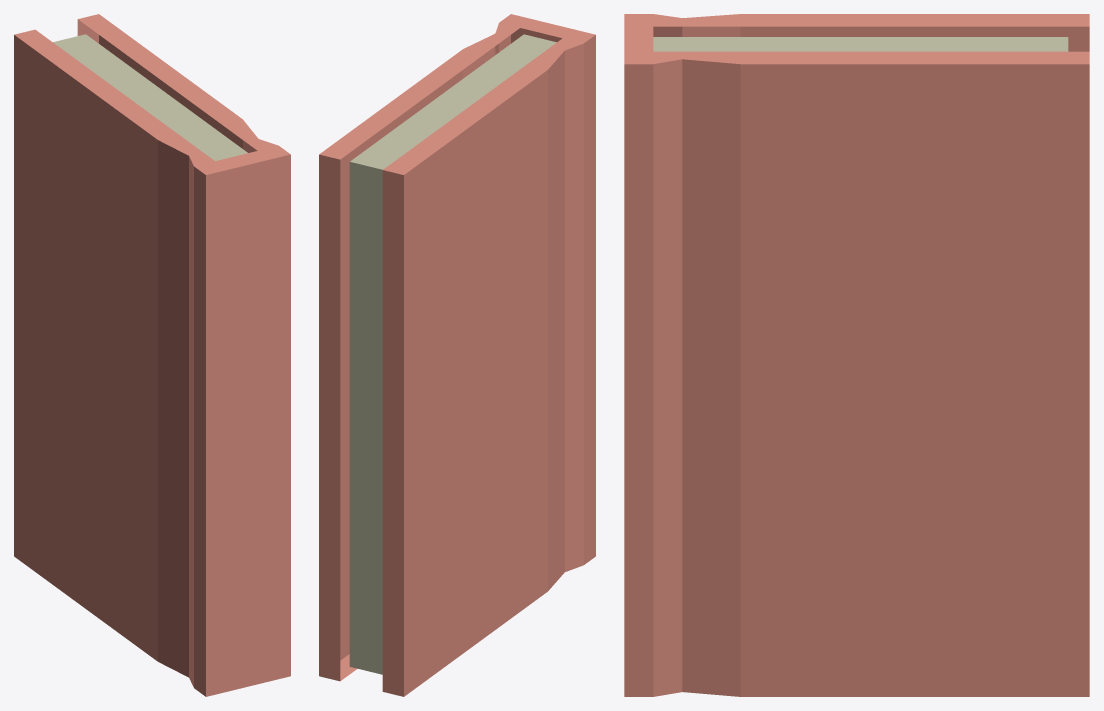
Rendered from Diary.fbx.
3 views of the same model, side by side, from view 1: azimuth 30°, elevation 25°; view 2: azimuth 150°, elevation 25°; view 3: azimuth 270°, elevation 25° (orthographic). The views are drawn at different scales.
Visible parts, largest first — view 1: Cube, Cube.001; view 2: Cube, Cube.001; view 3: Cube, Cube.001.
Part boxes in pixels (left/top/right/bottom): Cube: left=14, top=14, right=290, bottom=696; Cube.001: left=53, top=34, right=247, bottom=161; Cube: left=319, top=14, right=595, bottom=696; Cube.001: left=349, top=34, right=556, bottom=674; Cube: left=624, top=14, right=1089, bottom=696; Cube.001: left=653, top=37, right=1068, bottom=51.
Size of the model in its own units: 51.06 by 300 by 200.
